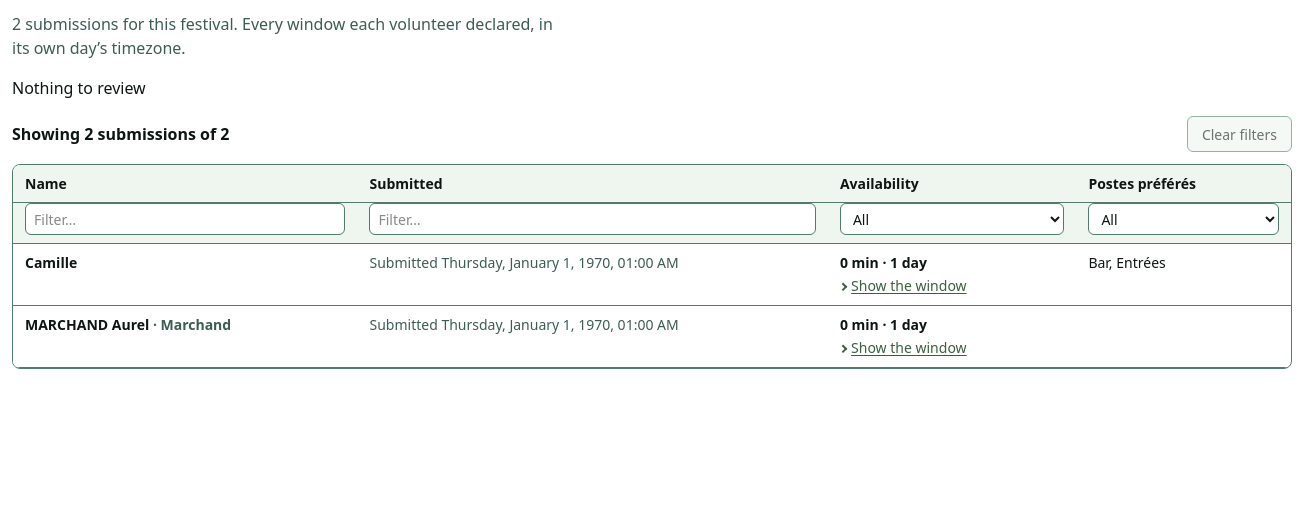
PlanSubmissionsView › names the day on every window, and colours it like the board
Click the button with class "evp-disclosure" below "Bar, Entrées".
click(903, 285)  # box [840,273,967,297]
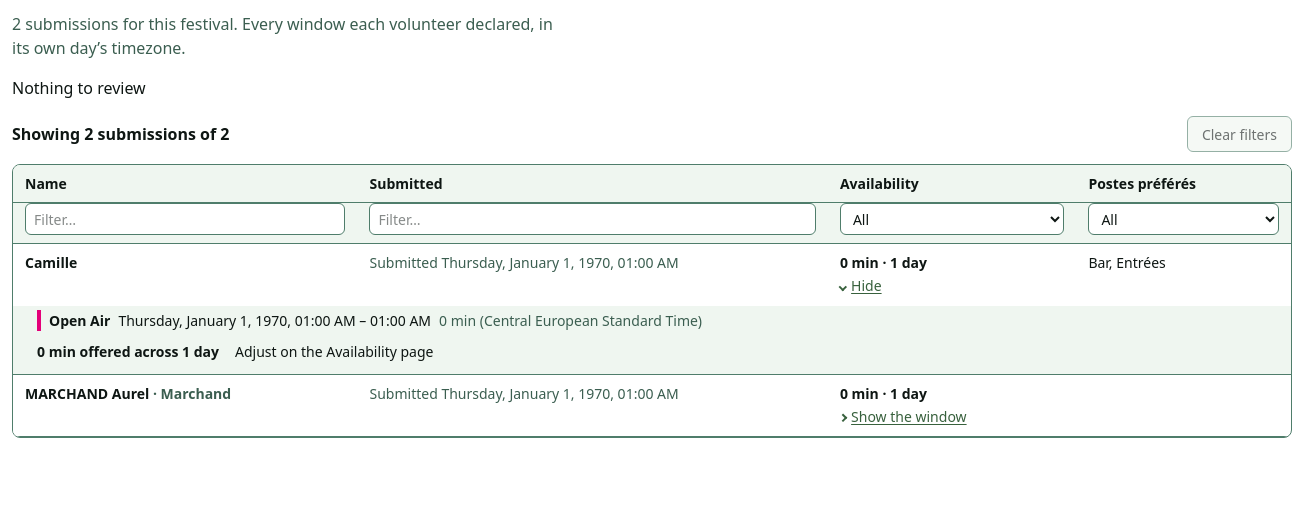
Click the button with class "evp-disclosure" showing "Show the window".
click(903, 416)  # box [840,404,967,428]
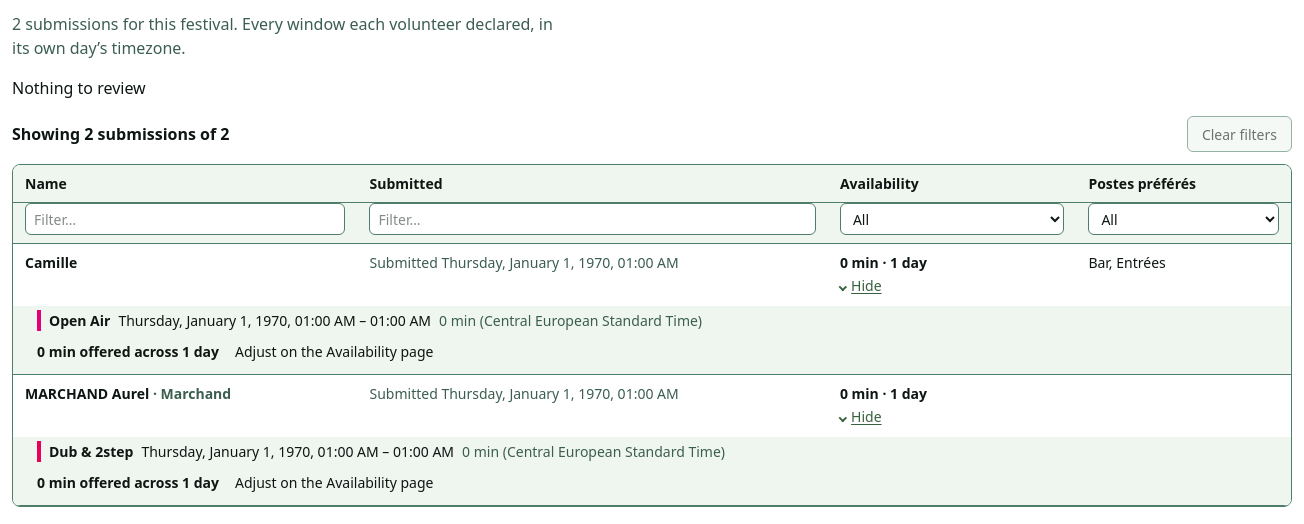
Result: the elements with class "evp-window-day" read "Open Air", "Dub & 2step", in this order at [49,310,110,331]; [49,441,133,462]
